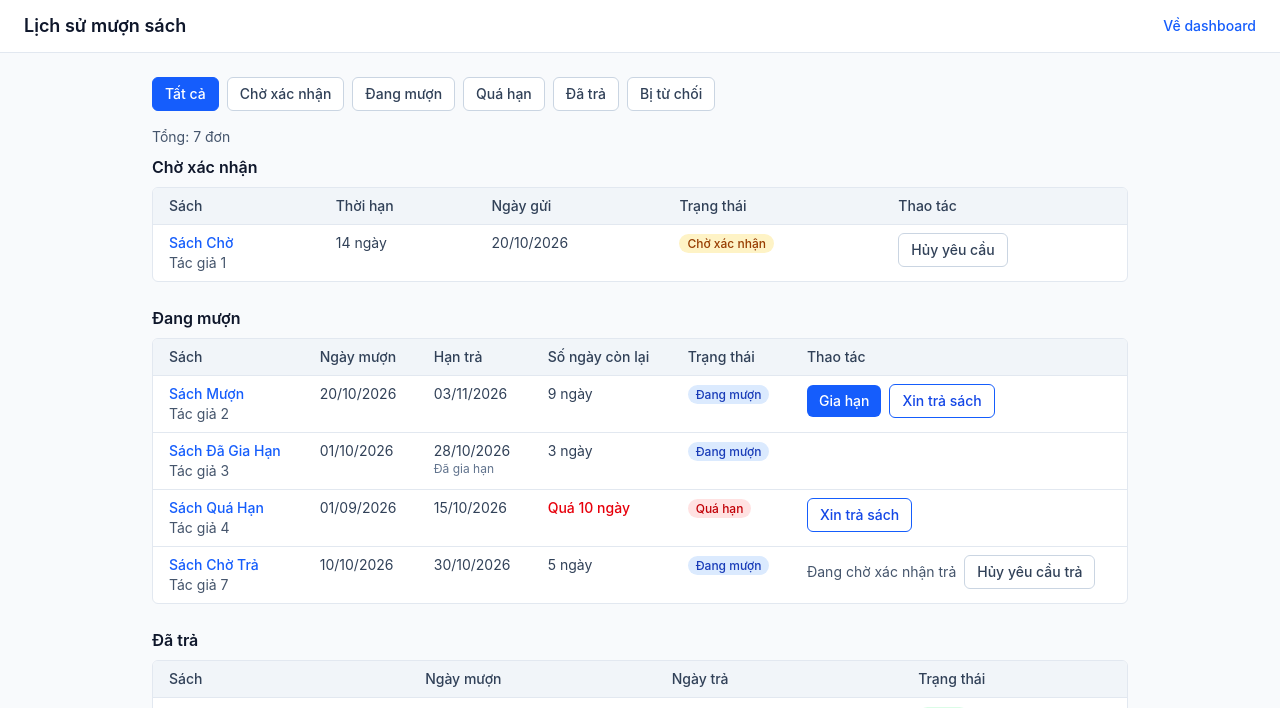
Scenario: BorrowHistoryPage – Xin trả sách (2.4.1) › modal nhắc mang sách đến thư viện; Hủy đóng modal mà không gửi
The width and height of the screenshot is (1280, 708).
Click the button with aria-label "Xin trả sách Sách Mượn".
click(942, 401)  # box x1=890 y1=384 x2=995 y2=418
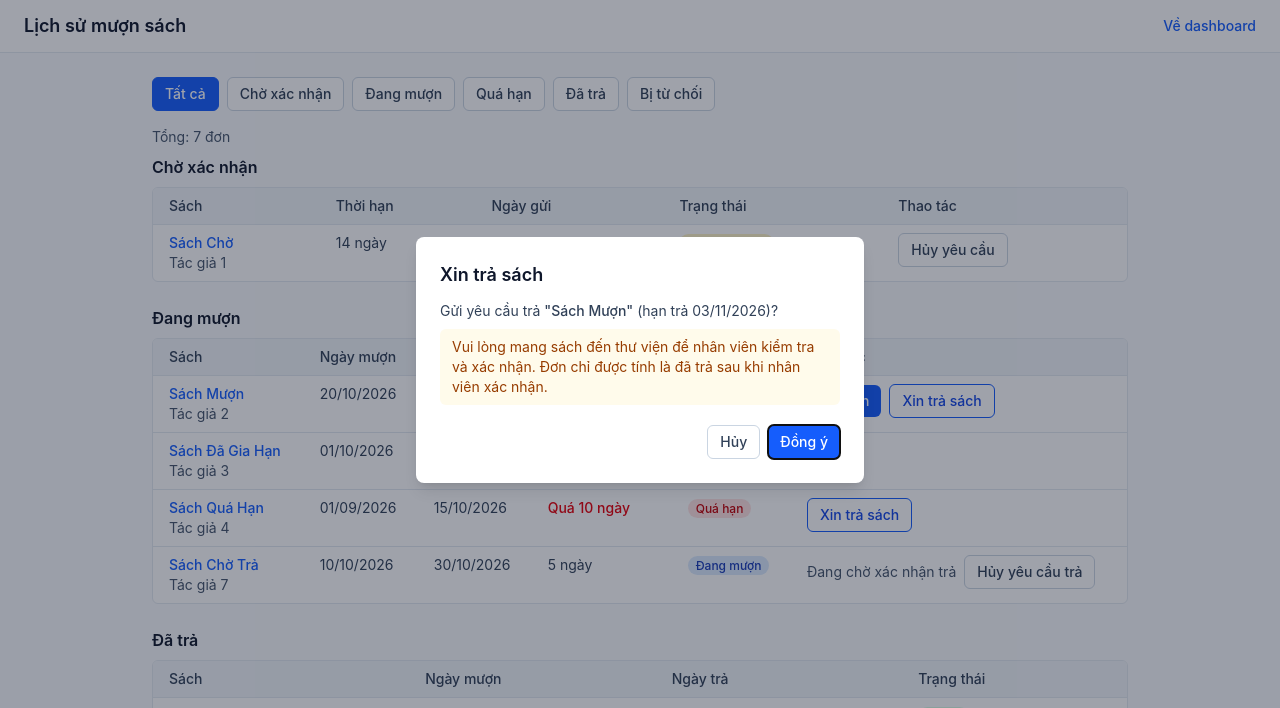
Now the dialog "Xin trả sách" shows "\"Sách Mượn\" (hạn trả 03/11/2026)", box x1=416 y1=237 x2=864 y2=483
Now the dialog "Xin trả sách" shows "mang sách đến thư viện", box x1=452 y1=338 x2=814 y2=395
Click the button "Hủy".
click(734, 442)  # box x1=707 y1=425 x2=760 y2=459
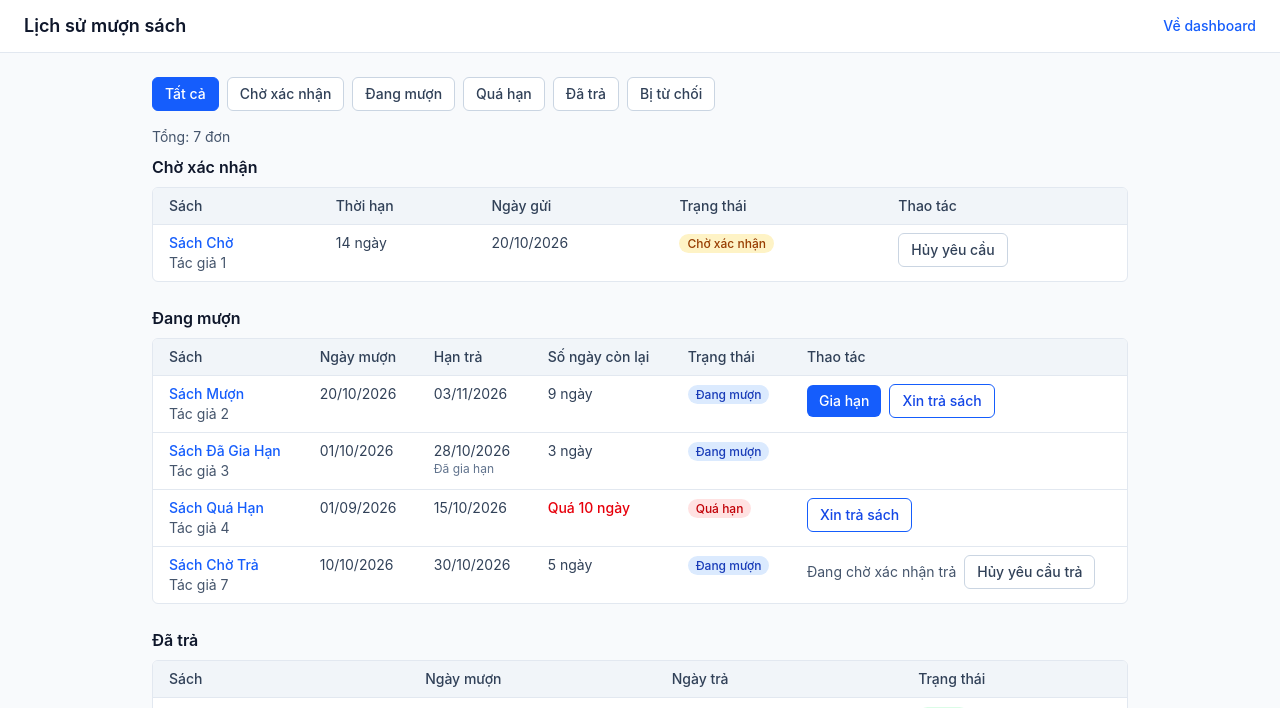
Now the dialog is gone
